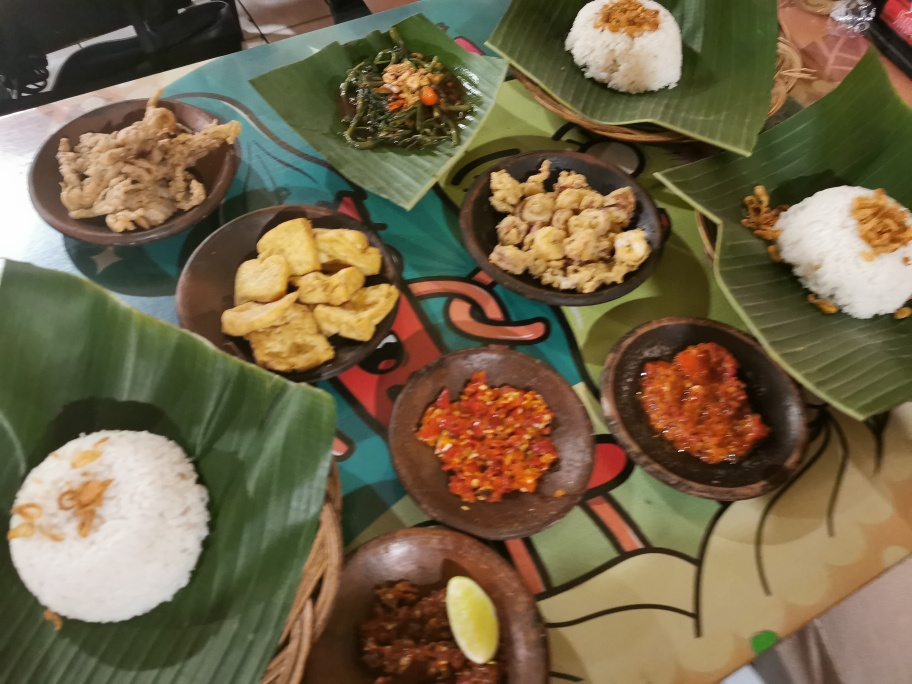nasi putih: (9, 425, 211, 624), (773, 180, 912, 319), (569, 1, 686, 95)
